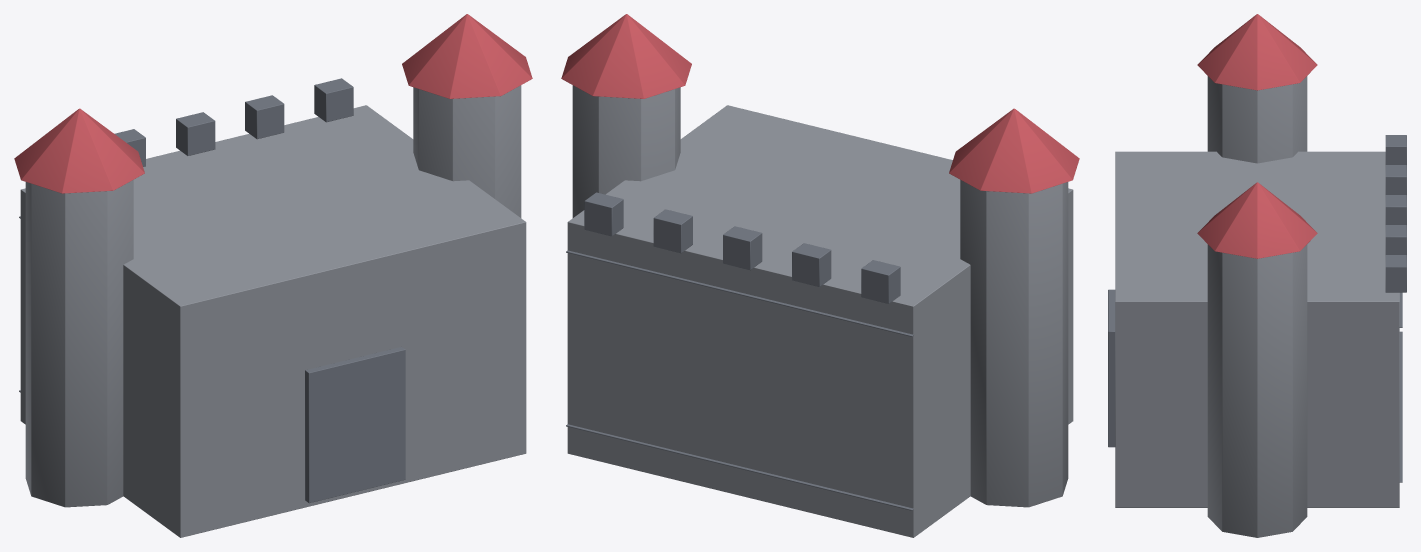
The model's file is SM_VAN_OUT_InnerSanctum.fbx.
3 views of the same model, side by side, from view 1: azimuth 30°, elevation 25°; view 2: azimuth 150°, elevation 25°; view 3: azimuth 270°, elevation 25° (orthographic). The views are drawn at different scales.
Visible parts, largest first — view 1: SM_VAN_OUT_InnerSanctum; view 2: SM_VAN_OUT_InnerSanctum; view 3: SM_VAN_OUT_InnerSanctum.
Boxes of the visible parts, <box> form: SM_VAN_OUT_InnerSanctum: <box>14,14,532,537</box>; SM_VAN_OUT_InnerSanctum: <box>561,14,1079,537</box>; SM_VAN_OUT_InnerSanctum: <box>1108,14,1406,537</box>.
Size of what is drawn, in the model's own units: 7.29 by 5.19 by 4.2.
